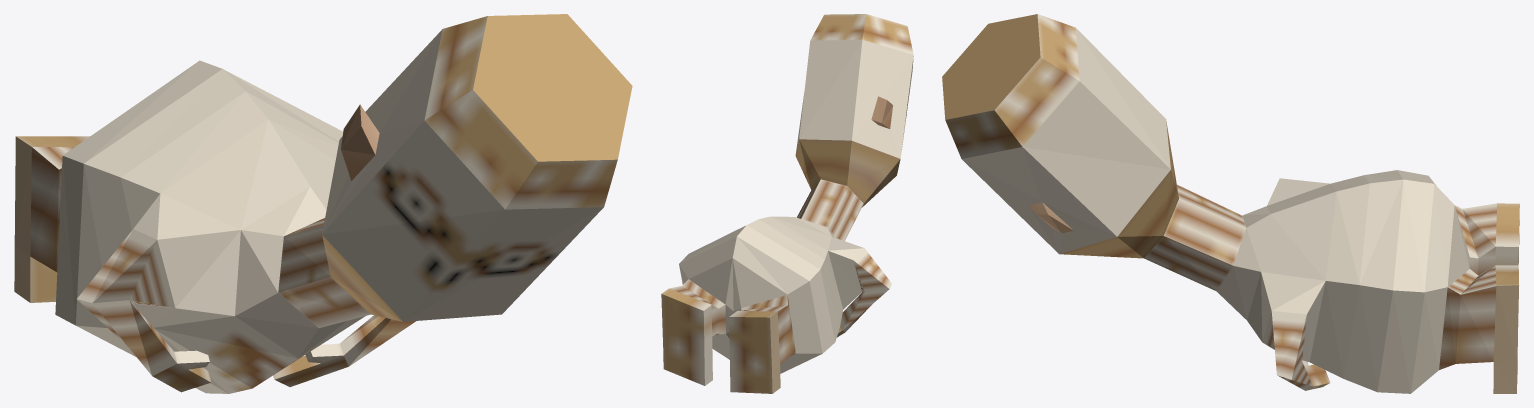
File: ancientIdol_hurt.obj
3 views of the same model, side by side, from view 1: azimuth 30°, elevation 25°; view 2: azimuth 150°, elevation 25°; view 3: azimuth 270°, elevation 25° (orthographic). The views are drawn at different scales.
Visible parts, largest first — view 1: Cylinder; view 2: Cylinder; view 3: Cylinder.
Boxes of the visible parts, x1,y1,x2,y2 form: Cylinder: [14, 14, 632, 393]; Cylinder: [661, 14, 913, 393]; Cylinder: [942, 14, 1519, 393].
Bounding box in the file's own units: 8.7 × 11.63 × 15.63.
